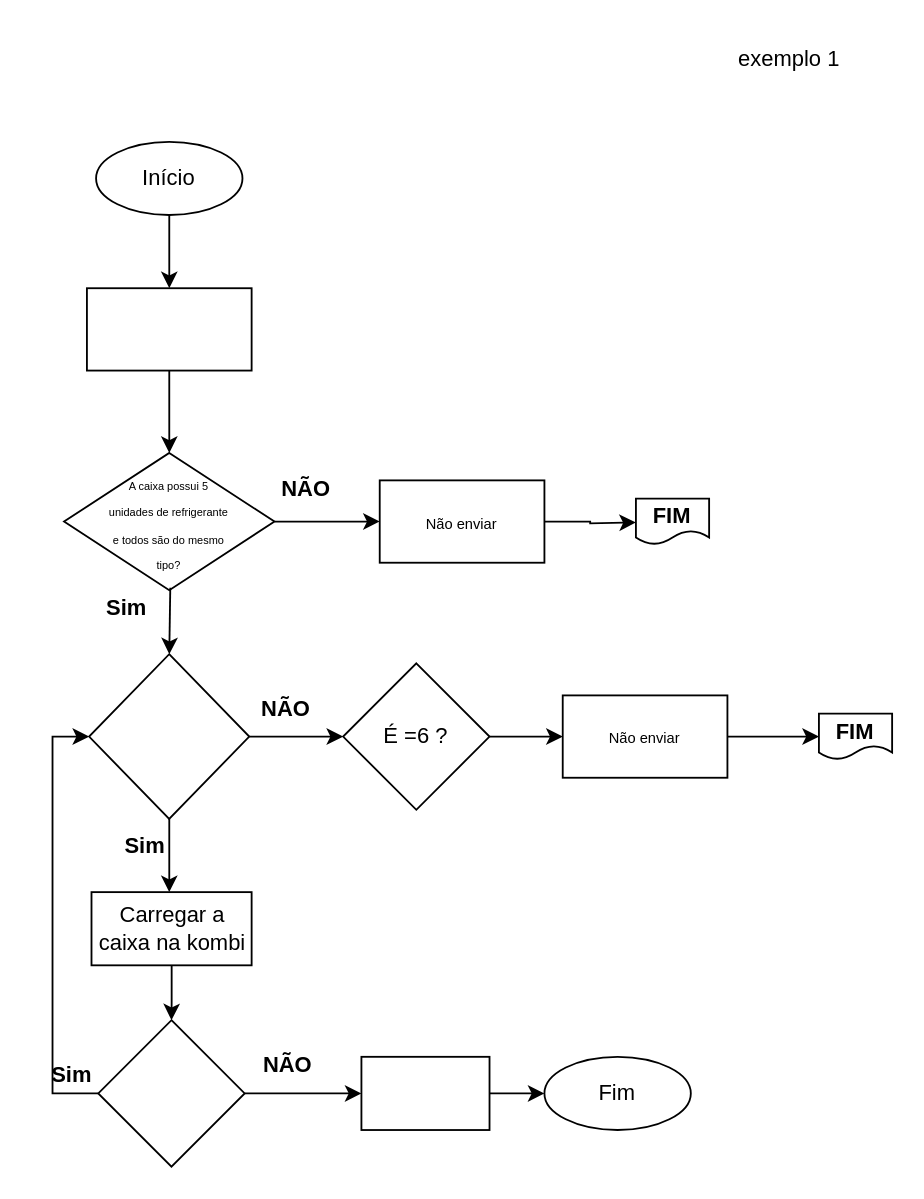
Some shapes in this 924 by 1199 pixel diagram are drawn without their labels. The shapes that lost their labels are listed below. From the top down, each one's centre as x and y in pixels, then its label:
At point (168, 328): "Abastecer a caixa".
At point (168, 735): "A kombi possui a quantidade de caixas <6 ?".
At point (170, 1092): "Possui mais caixas?".
At point (425, 1092): "Transportar".
